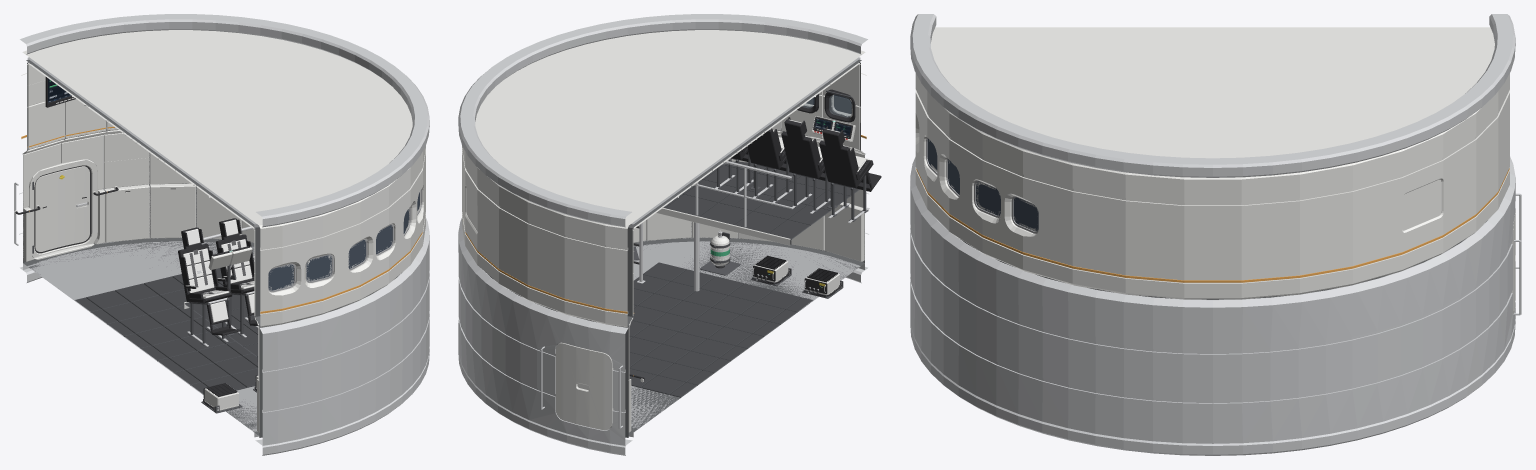
File: ax_cmd_07_command_deck_cutaway.glb
3 views of the same model, side by side, from view 1: azimuth 30°, elevation 25°; view 2: azimuth 150°, elevation 25°; view 3: azimuth 270°, elevation 25° (orthographic). The views are drawn at different scales.
Visible parts, largest first — view 1: ext_window_band, ext_stainless_barrel, ext_interface_rings, ext_bulkheads, hatch_door_1, pressure_vessel, locker_07_door, locker_06_door, panel_b1_f06, ext_window_glass, hatch_coaming_1, panel_b3_f08 (+29 smaller); view 2: ext_window_band, ext_stainless_barrel, ext_interface_rings, deck_tiles, ext_bulkheads, pressure_vessel, ext_hatch_door_1, locker_24_door, seat_2_shell_back, seat_1_shell_back, locker_28_door, deck_edge_trim (+36 smaller); view 3: ext_window_band, ext_stainless_barrel, ext_interface_rings, ext_window_glass, ext_orange_stripes.
Boxes of the visible parts, x1,y1,x2,y2 form: ext_window_band: [21, 30, 425, 327]; ext_stainless_barrel: [19, 135, 429, 445]; ext_interface_rings: [20, 14, 429, 455]; ext_bulkheads: [27, 57, 259, 437]; hatch_door_1: [35, 166, 89, 251]; pressure_vessel: [23, 59, 401, 437]; locker_07_door: [106, 187, 149, 242]; locker_06_door: [151, 186, 195, 237]; panel_b1_f06: [104, 133, 149, 188]; ext_window_glass: [268, 192, 419, 290]; hatch_coaming_1: [28, 159, 97, 259]; panel_b3_f08: [28, 101, 64, 149]; ext_window_band: [462, 30, 866, 327]; ext_stainless_barrel: [458, 153, 868, 445]; ext_interface_rings: [458, 14, 867, 455]; deck_tiles: [664, 161, 858, 239]; ext_bulkheads: [628, 57, 860, 437]; pressure_vessel: [485, 59, 864, 437]; ext_hatch_door_1: [555, 342, 613, 430]; locker_24_door: [825, 204, 861, 261]; seat_2_shell_back: [781, 131, 819, 175]; seat_1_shell_back: [819, 140, 857, 184]; locker_28_door: [647, 213, 690, 240]; deck_edge_trim: [656, 208, 790, 245]; ext_window_band: [915, 27, 1509, 299]; ext_stainless_barrel: [910, 156, 1515, 443]; ext_interface_rings: [910, 14, 1515, 455]; ext_window_glass: [927, 138, 1038, 231]; ext_orange_stripes: [916, 168, 1509, 282].
Size of the model in its own units: 5.02 by 3.98 by 7.58.
38 materials, 2 textured.
